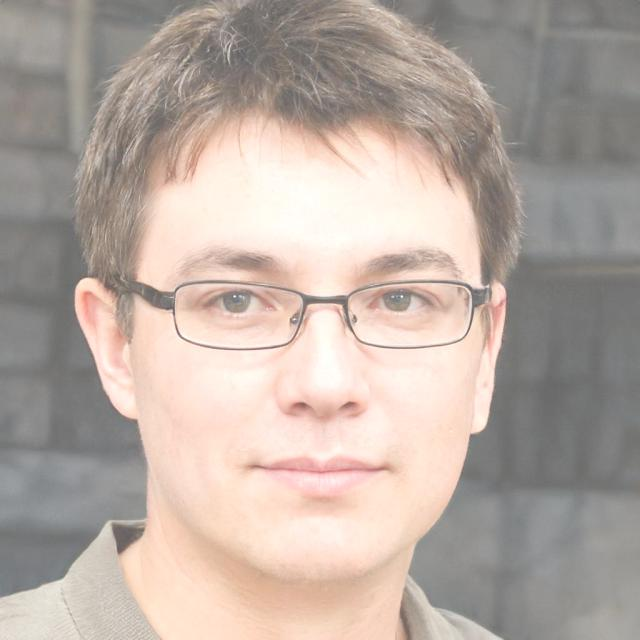lens: (348, 281, 474, 348), (176, 283, 304, 348)
